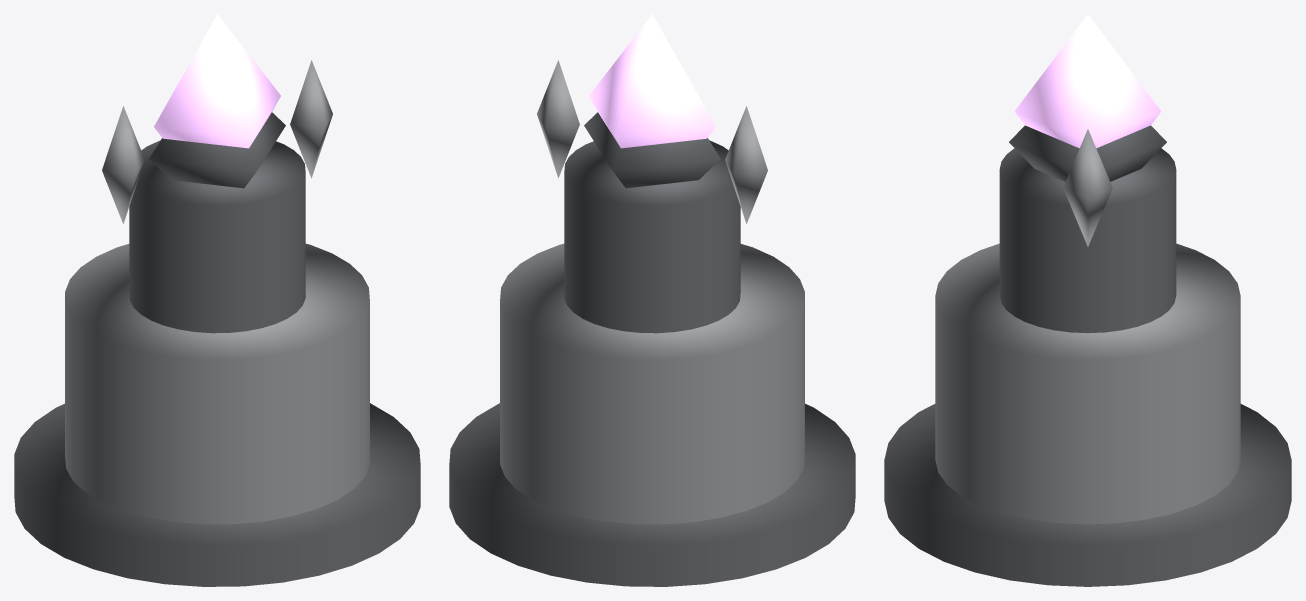
File: arcane_l1.glb
3 views of the same model, side by side, from view 1: azimuth 30°, elevation 25°; view 2: azimuth 150°, elevation 25°; view 3: azimuth 270°, elevation 25° (orthographic).
Parts seen in each view (by area): view 1: base, footing, shaft, spinCrystal, support, shardR, shardL; view 2: base, footing, shaft, spinCrystal, support, shardR, shardL; view 3: base, footing, shaft, spinCrystal, support, shardR.
Part boxes in pixels (box(x1,y1,x2,y2)): base: box(65, 243, 369, 524); footing: box(14, 403, 420, 586); shaft: box(129, 140, 305, 333); spinCrystal: box(154, 14, 280, 148); support: box(149, 112, 285, 188); shardR: box(290, 60, 332, 178); shardL: box(102, 106, 144, 223); base: box(500, 243, 804, 524); footing: box(449, 403, 855, 586); shaft: box(564, 140, 740, 333); spinCrystal: box(589, 14, 715, 148); support: box(584, 112, 720, 188); shardR: box(537, 60, 579, 178); shardL: box(725, 106, 767, 223); base: box(935, 243, 1240, 524); footing: box(884, 404, 1291, 586); shaft: box(999, 148, 1176, 333); spinCrystal: box(1014, 14, 1161, 148); support: box(1009, 125, 1166, 181); shardR: box(1063, 129, 1112, 246).
Size of the model in its own units: 1.8 by 2.38 by 1.8.
